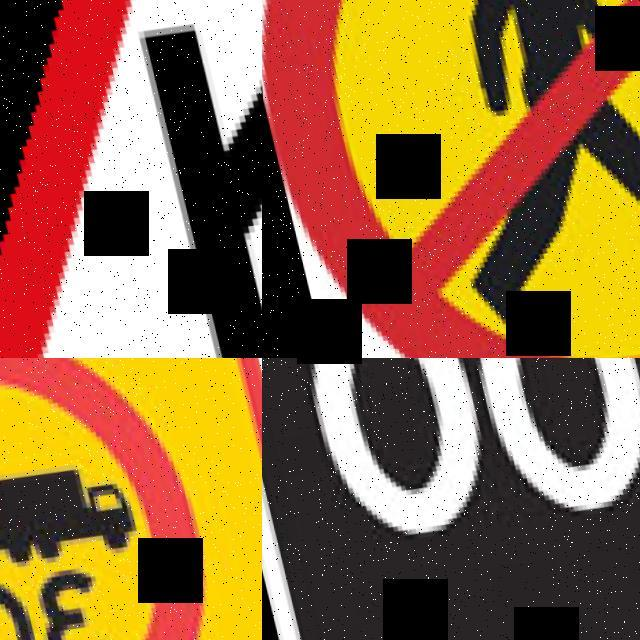100: (262, 358, 640, 640)
31: (262, 0, 640, 358)
Oblique side road junction: (0, 0, 262, 358)
axle weight limit 30tonnes: (0, 358, 262, 640)
